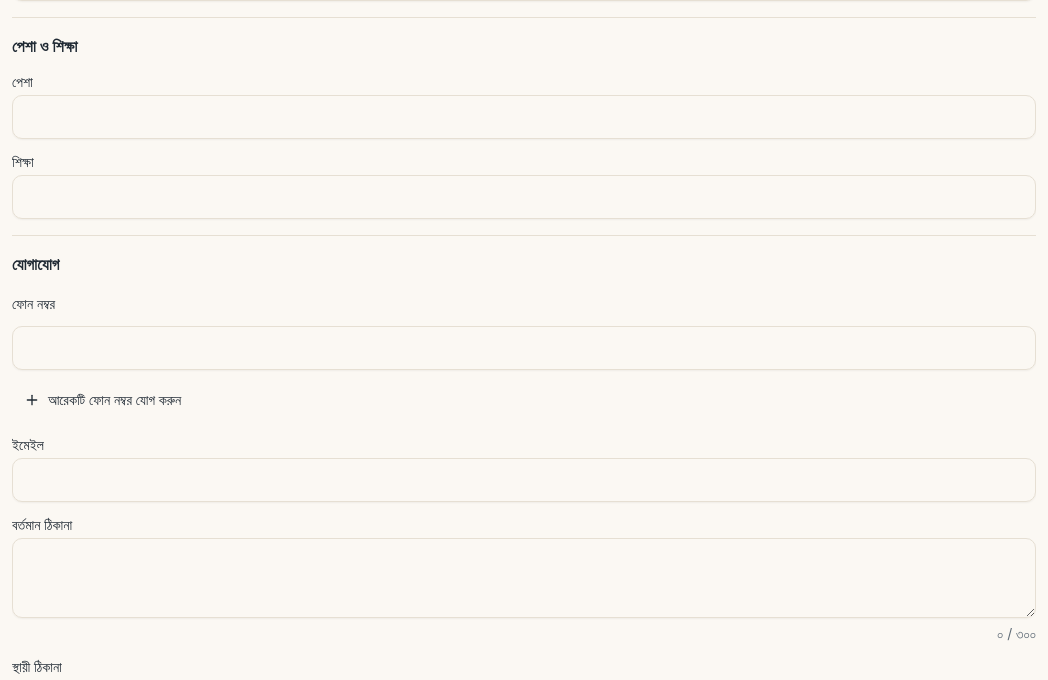
Test: PersonDetailsForm (P5-01) › shows the same errors in Bangla, and accepts Bangla digits
(page scrolled)
Type "ফোন করুন" into the field named "ফোন ১" at {"x": 524, "y": 348}, box [12,326,1036,370]
Wait 800 ms
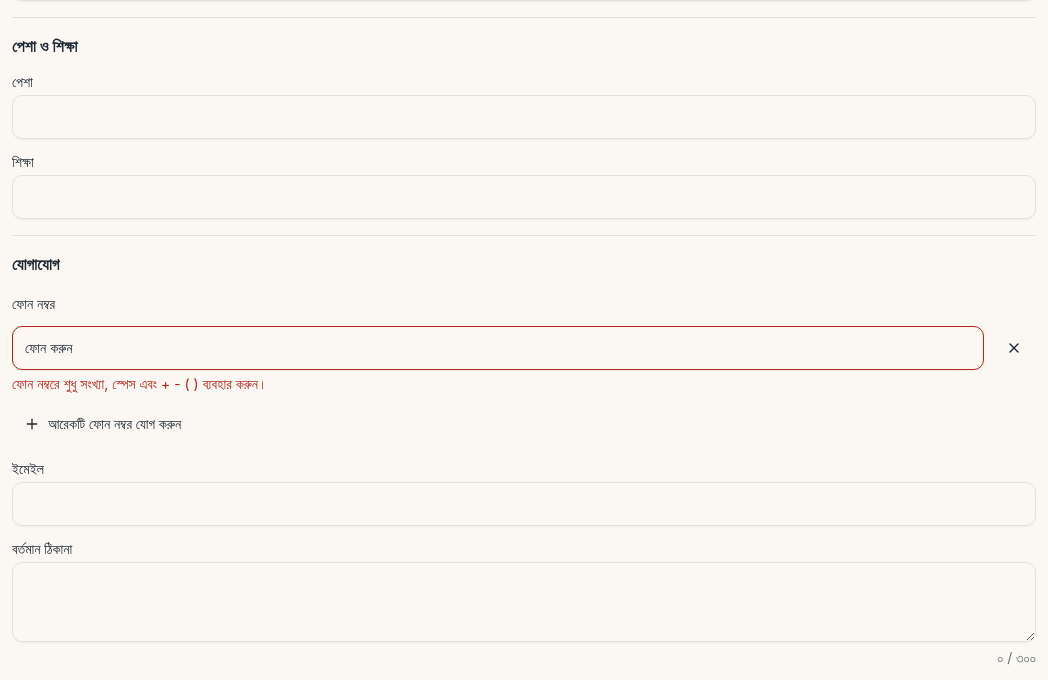
Check: the text "ফোন নম্বরে শুধু সংখ্যা, স্পেস এবং + - ( ) ব্যবহার করুন।" is shown, box [12,375,268,392]
Replace the text in the field named "ফোন ১" with "০১৭১১ ০০০০০০" at {"x": 498, "y": 348}, box [12,326,984,370]
Wait 800 ms
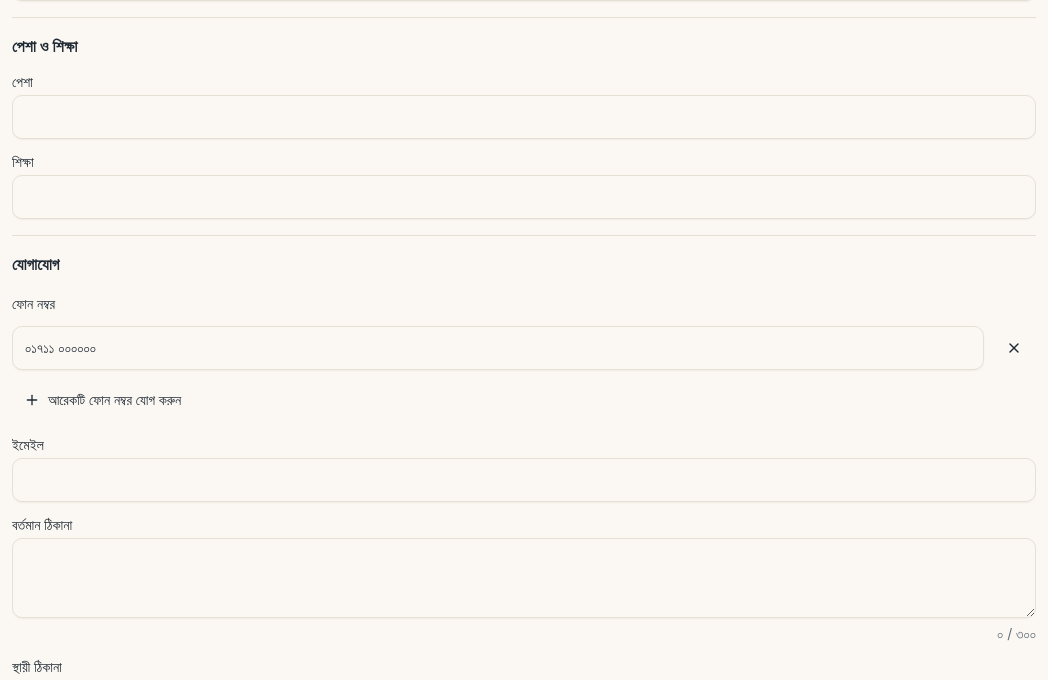
Check: the text "ফোন নম্বরে শুধু সংখ্যা, স্পেস এবং + - ( ) ব্যবহার করুন।" is gone
